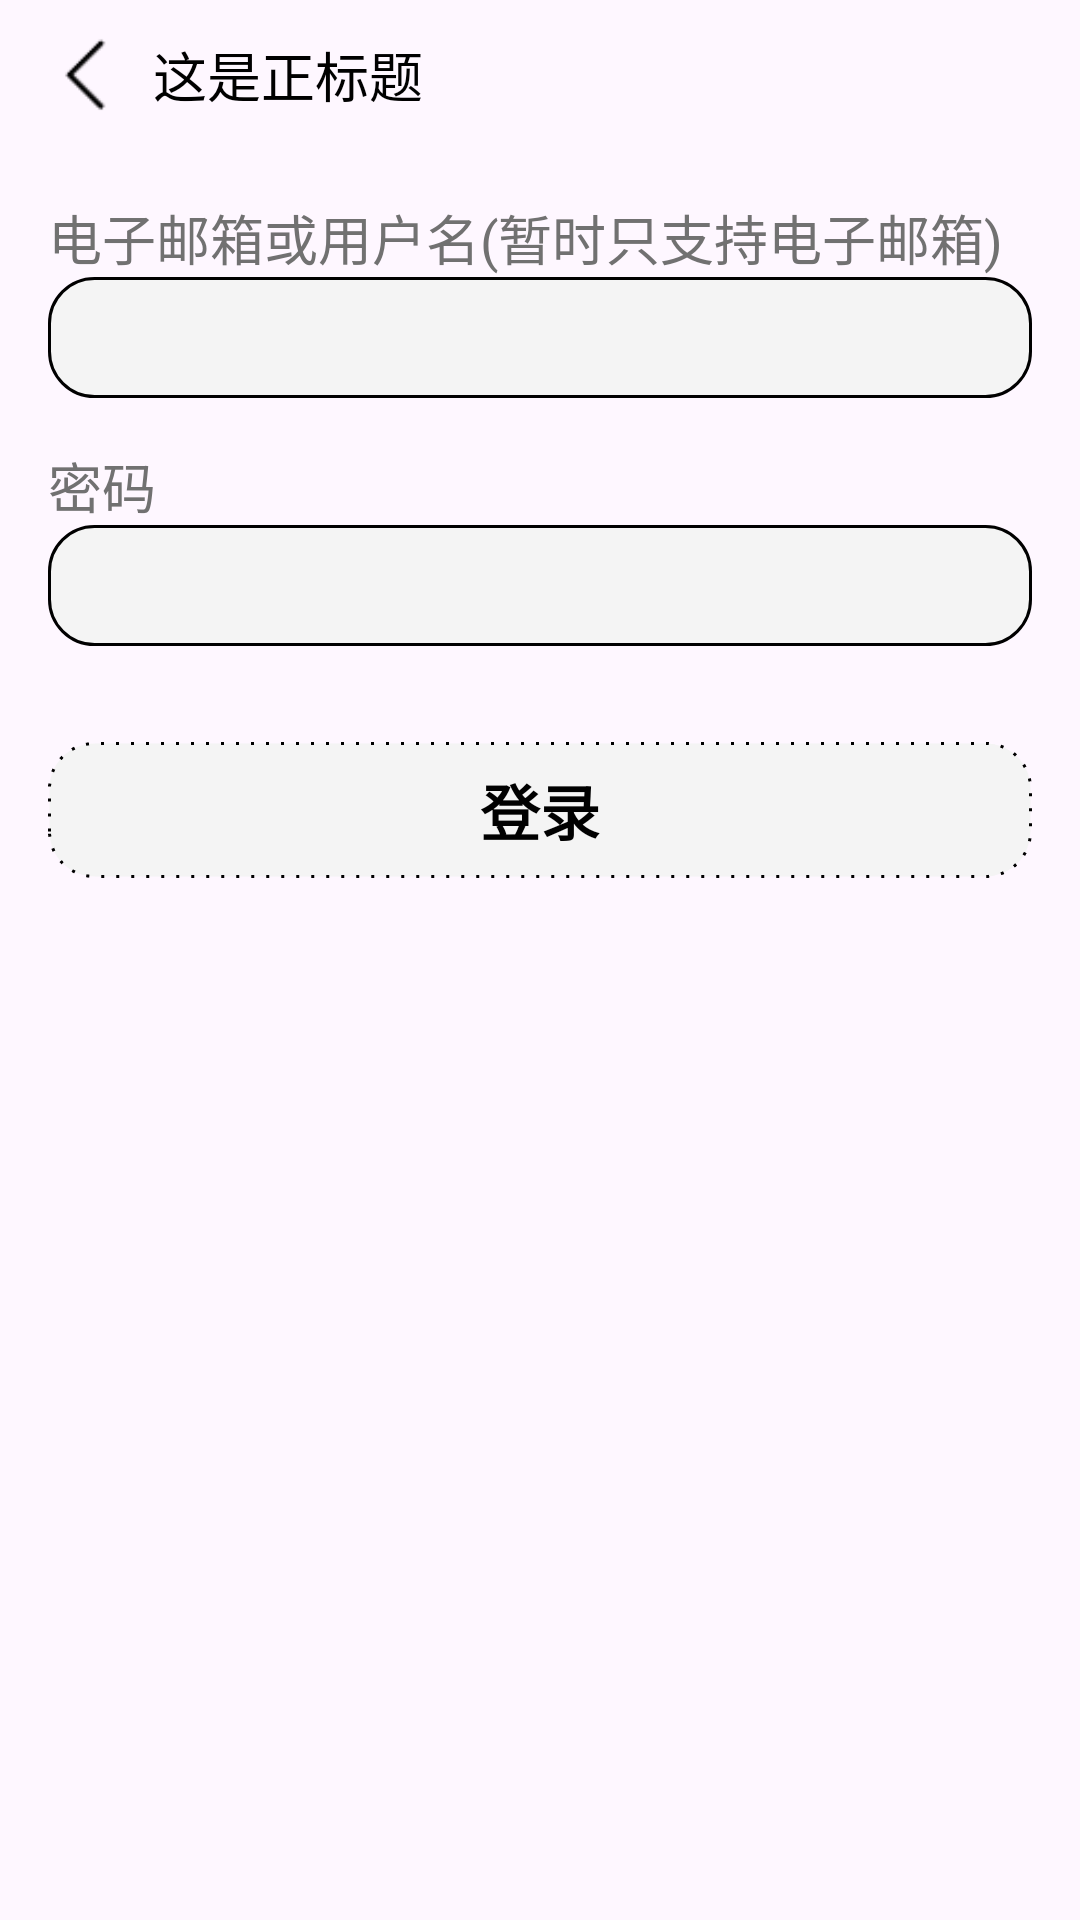

Point at icon controls on the screen. Image size 1080*1920, points as point (x, y).
back: point (85, 74)
